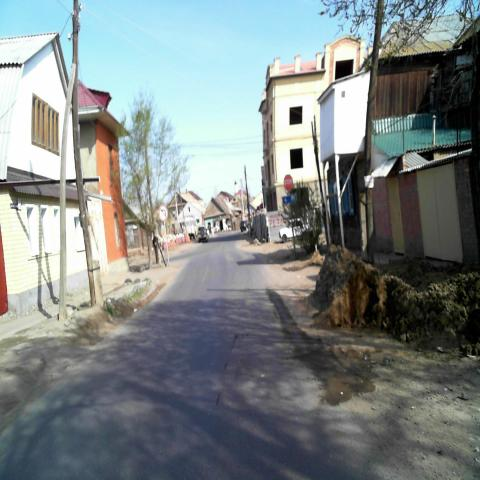2_5: (283, 172, 293, 192)
3_18_2: (158, 204, 168, 223)
